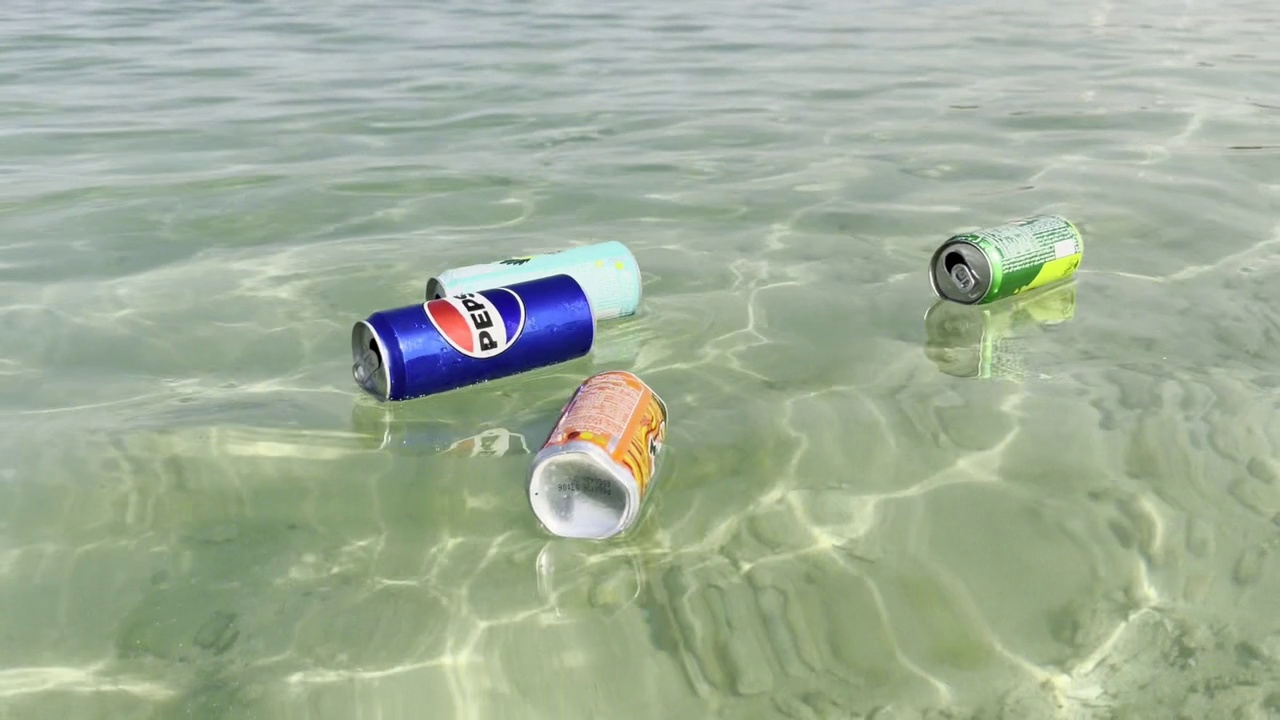debris: (337, 269, 605, 413), (416, 235, 649, 367), (518, 368, 671, 545), (914, 195, 1102, 321)
